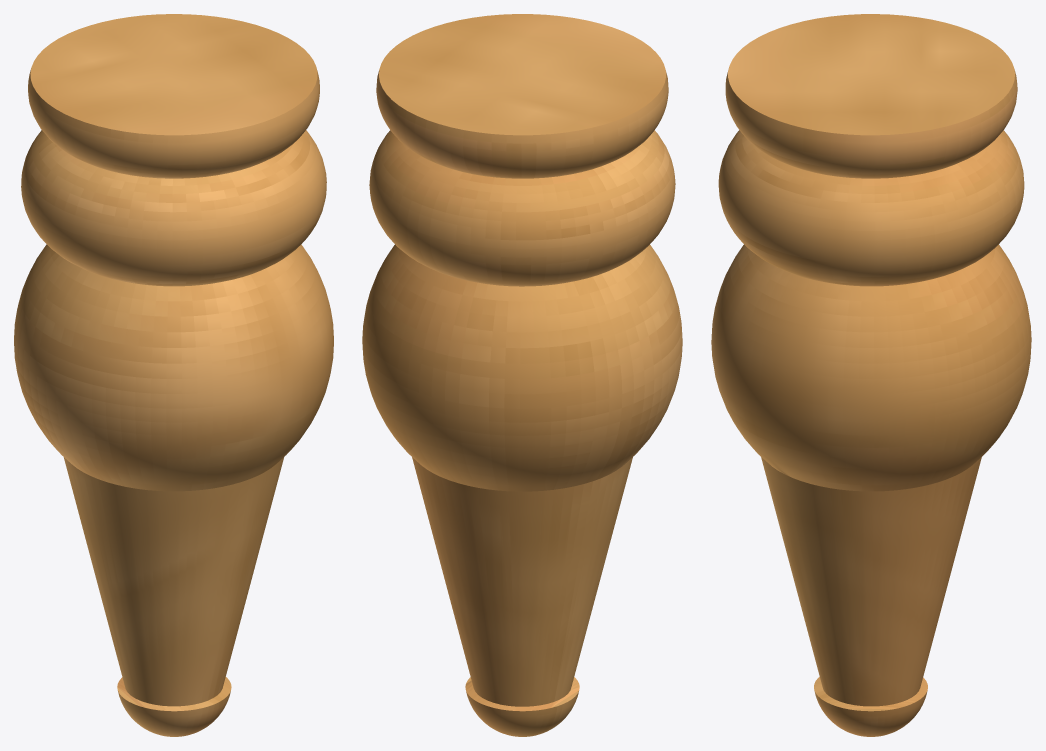
The model's file is original-33.obj.
3 renders of one model, left to right at view 1: azimuth 30°, elevation 25°; view 2: azimuth 150°, elevation 25°; view 3: azimuth 270°, elevation 25°, orthographic.
Parts seen in each view (by area): view 1: mesh90/mesh90-geometry#mesh90-geometry; view 2: mesh90/mesh90-geometry#mesh90-geometry; view 3: mesh90/mesh90-geometry#mesh90-geometry.
Part boxes in pixels (left/top/right/bottom): mesh90/mesh90-geometry#mesh90-geometry: left=14, top=14, right=333, bottom=736; mesh90/mesh90-geometry#mesh90-geometry: left=362, top=14, right=682, bottom=736; mesh90/mesh90-geometry#mesh90-geometry: left=711, top=14, right=1031, bottom=736.
Size of the model in its own units: 0.00686 by 0.0155 by 0.00686.
